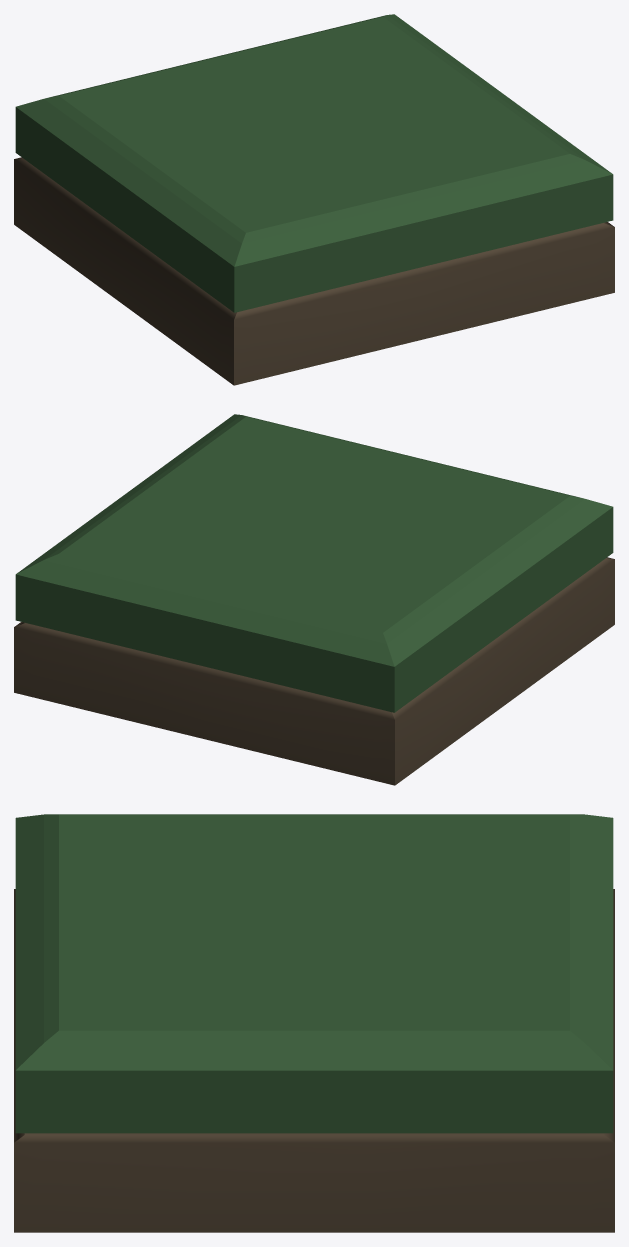
Rendered from Plataforma_Base.fbx.
The picture shows the model from 3 angles, top to bottom: view 1: azimuth 30°, elevation 25°; view 2: azimuth 150°, elevation 25°; view 3: azimuth 270°, elevation 25°; orthographic projection. The views are drawn at different scales.
Visible parts, largest first — view 1: pCube1; view 2: pCube1; view 3: pCube1.
Boxes of the visible parts, box(x1,y1,x2,y2) form: pCube1: box(14, 14, 614, 385); pCube1: box(14, 414, 614, 785); pCube1: box(14, 814, 614, 1232).
Size of the model in its own units: 10.96 by 3.68 by 10.96.
